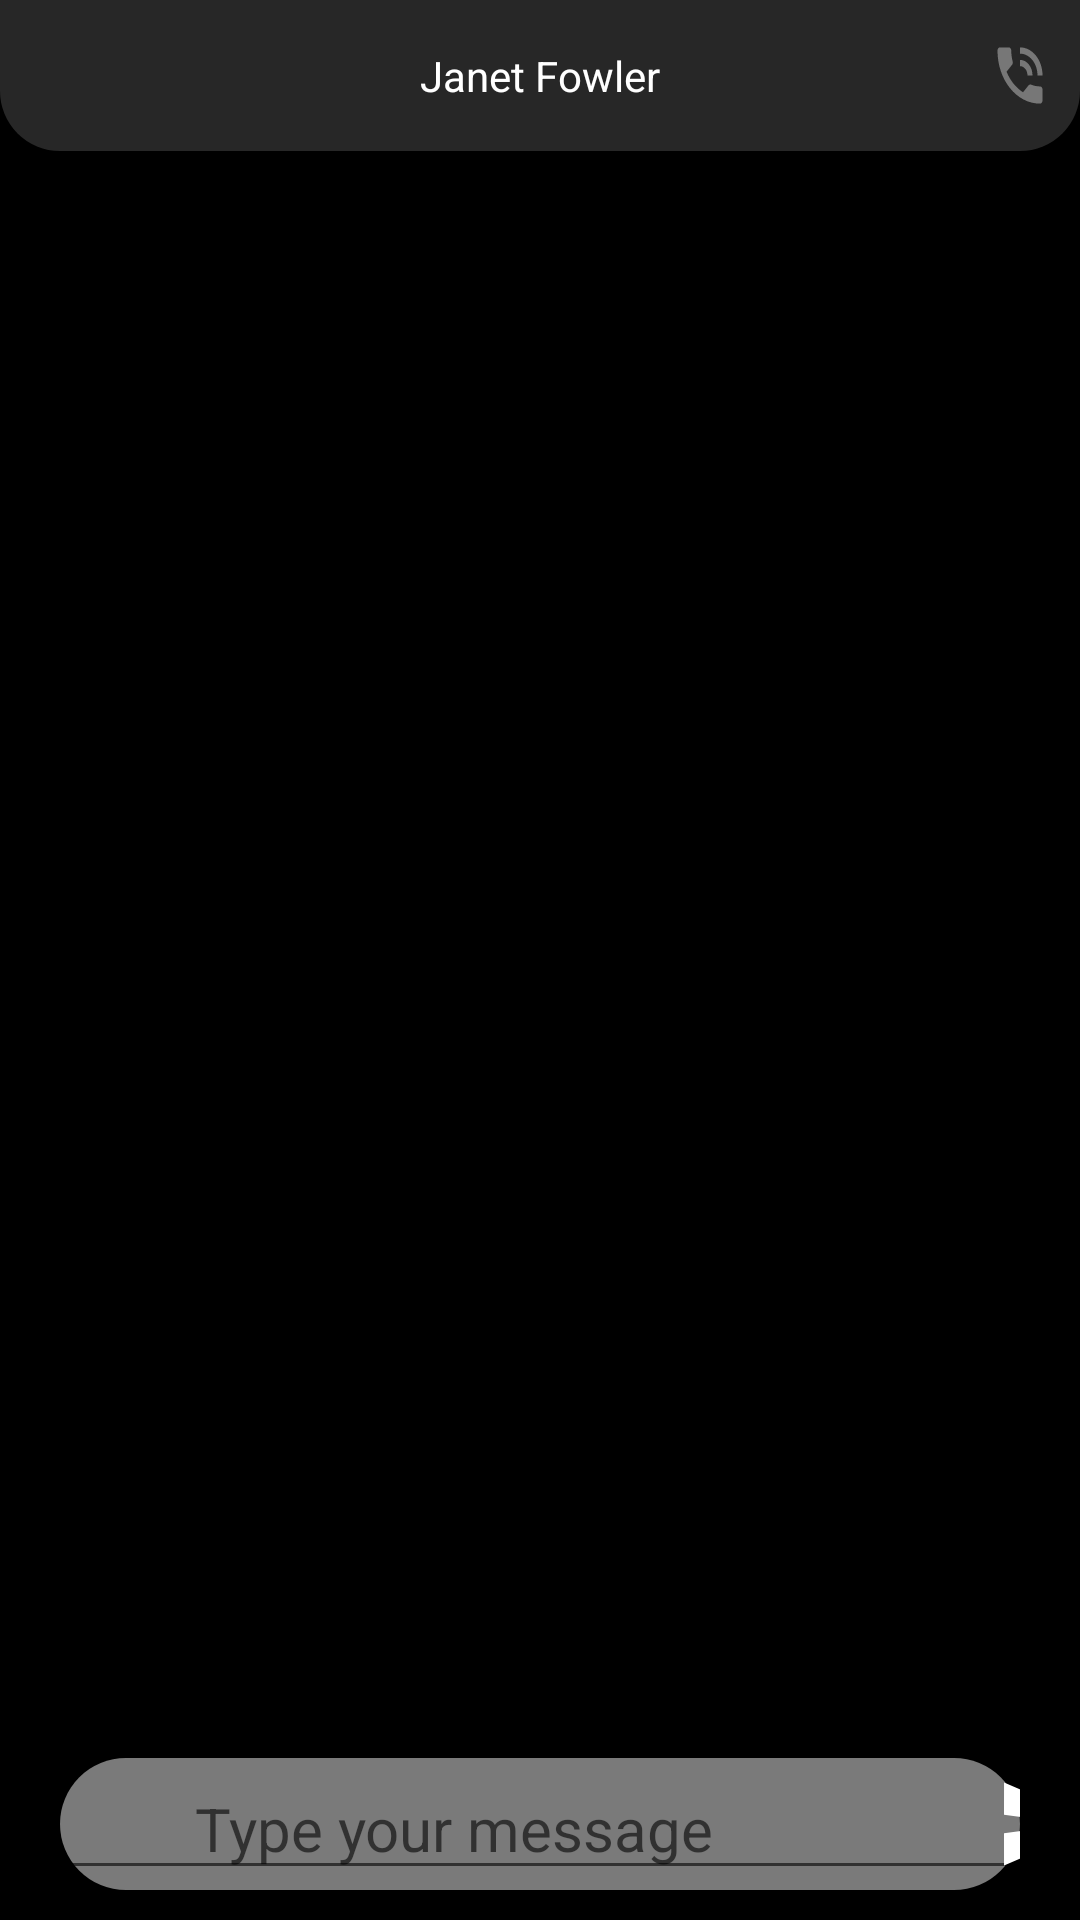

Screen size 1080 × 1920. Icon name, then its center in pixels as point (x, y):
phone in talk: point (1020, 75)
